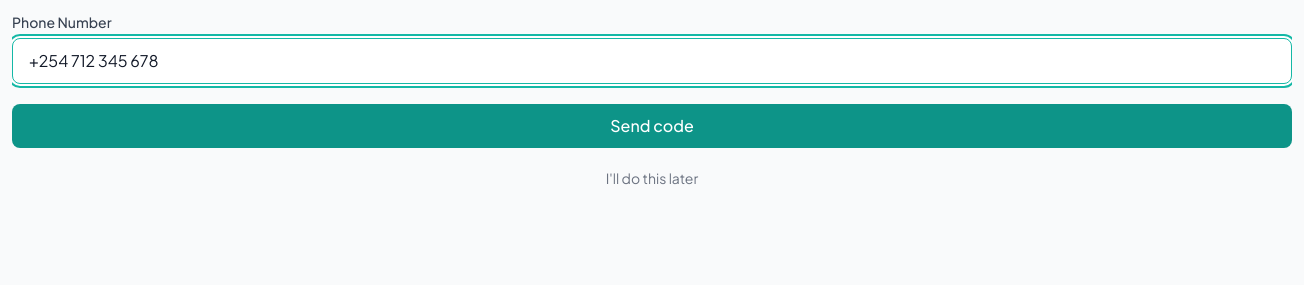
the resend control › keeps the resend offer open when the resend itself fails
Click the button "Send code" at x=652, y=126, box [12,104,1292,148]
Wait 60000 ms
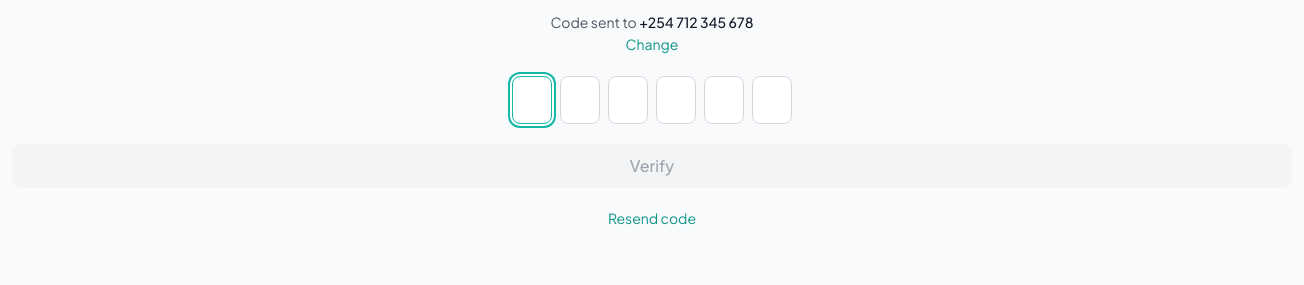
Click the button "Resend code" at x=652, y=218, box [608,208,696,228]
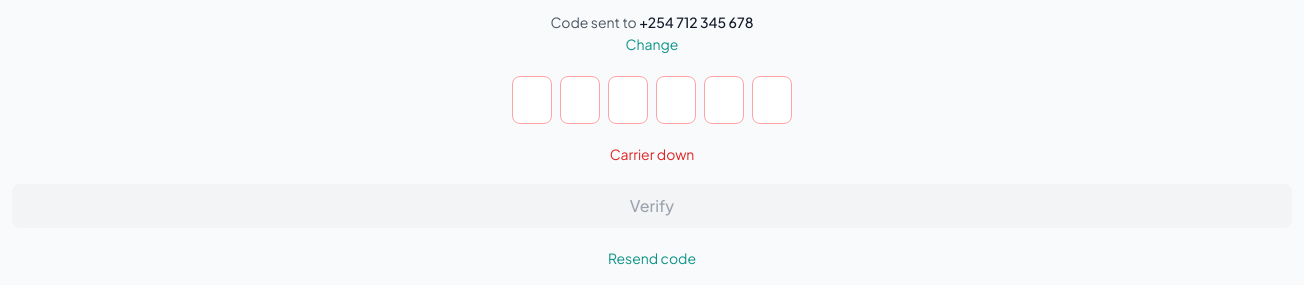
Expected: the button "Resend code" is shown, [608,248,696,268]
Expected: the text "Carrier down" is shown, [610,145,694,163]
